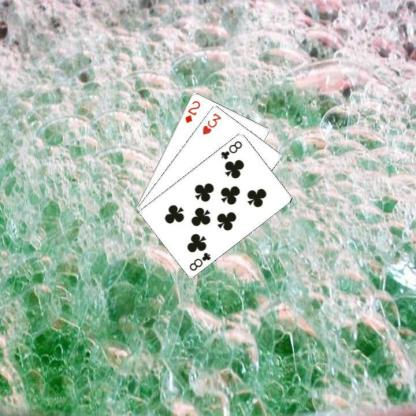2D: (183, 98, 202, 124)
3H: (200, 110, 222, 136)
8C: (218, 138, 243, 161), (187, 250, 212, 272)
